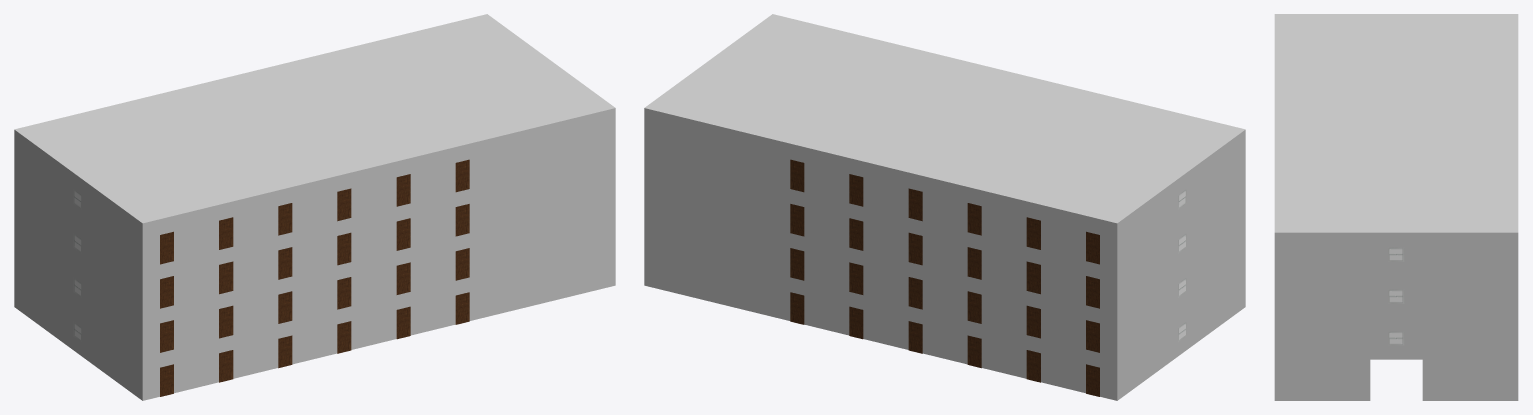
Rendered from hostel_a_updated.glb.
3 views of the same model, side by side, from view 1: azimuth 30°, elevation 25°; view 2: azimuth 150°, elevation 25°; view 3: azimuth 270°, elevation 25° (orthographic). The views are drawn at different scales.
Visible parts, largest first — view 1: Cube.025, Cube.007, Cube.012, Cube.011, Cube.001, Cube.016, Cube.004, Cube.017, Cube.018, Cube.010, Cube, Cube.008 (+6 smaller); view 2: Cube.025, Cube.010, Cube.008, Cube, Cube.009, Cube.021, Cube.019, Cube.020, Cube.003, Cube.001, Cube.012, Cube.007 (+6 smaller); view 3: Cube.025, Cube.022, Cube.005, Cube.006, Plane.027, Plane.106, Plane.105.
Part boxes in pixels (x1,y1,x2,y2): Cube.025: (14,14,615,224); Cube.007: (90,270,497,400); Cube.012: (90,182,497,312); Cube.011: (90,226,497,356); Cube.001: (90,138,497,267); Cube.016: (497,241,615,314); Cube.004: (497,109,615,181); Cube.017: (497,198,615,269); Cube.018: (497,154,615,225); Cube.010: (14,174,66,256); Cube: (14,130,66,211); Cube.008: (14,263,66,344); Cube.025: (644,14,1245,224); Cube.010: (762,182,1169,312); Cube.008: (762,271,1169,400); Cube: (762,138,1169,267); Cube.009: (762,226,1169,356); Cube.021: (644,153,762,225); Cube.019: (644,241,762,314); Cube.020: (644,197,762,269); Cube.003: (644,109,762,181); Cube.001: (1193,130,1245,211); Cube.012: (1193,174,1245,255); Cube.007: (1193,263,1245,344); Cube.025: (1274,14,1518,233); Cube.022: (1276,233,1516,358); Cube.005: (1422,359,1514,400); Cube.006: (1278,359,1370,400); Plane.027: (1388,247,1404,261); Plane.106: (1388,289,1404,303); Plane.105: (1388,331,1404,345).
Bounding box in the file's own units: 33.7 × 12.05 × 15.9.
103 materials, 103 textured.
